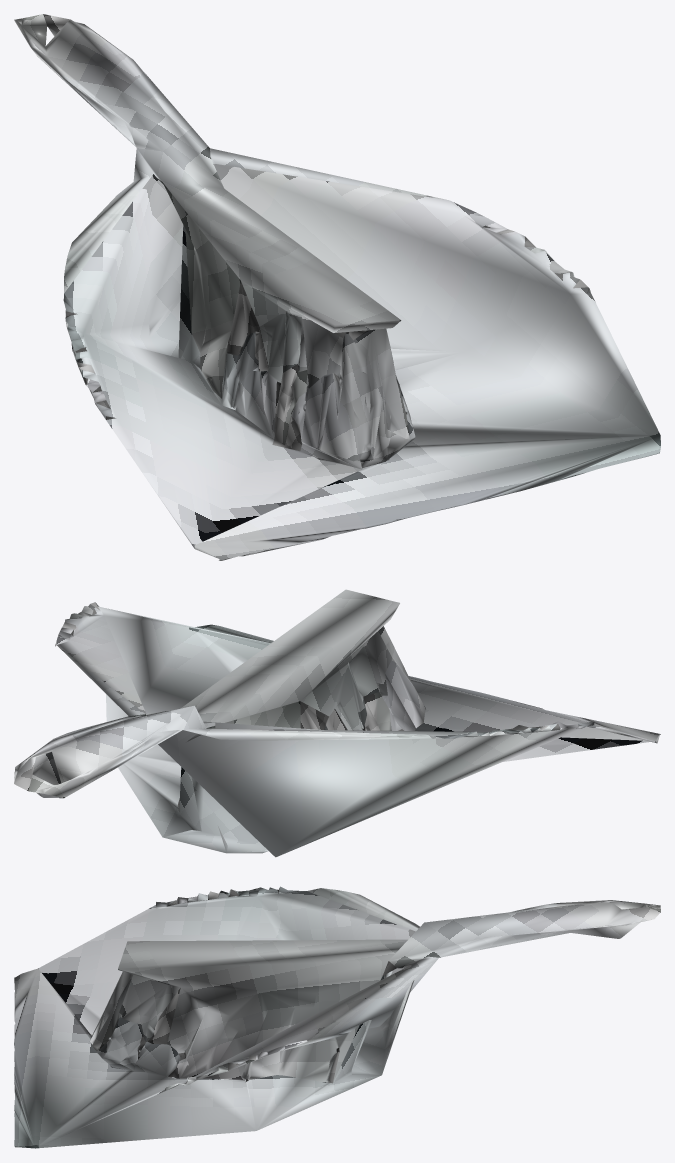
Rendered from Ocedar_Snap_On_Dust_Pan_And_Brush_1_ct-low.glb.
3 renders of one model, top to bottom at view 1: azimuth 30°, elevation 25°; view 2: azimuth 150°, elevation 25°; view 3: azimuth 270°, elevation 25°, orthographic. The views are drawn at different scales.
Parts seen in each view (by area): view 1: Ocedar_Snap_On_Dust_Pan_And_Brush_1_ct; view 2: Ocedar_Snap_On_Dust_Pan_And_Brush_1_ct; view 3: Ocedar_Snap_On_Dust_Pan_And_Brush_1_ct.
Part boxes in pixels (box(x1,y1,x2,y2)): Ocedar_Snap_On_Dust_Pan_And_Brush_1_ct: box(14, 14, 660, 560); Ocedar_Snap_On_Dust_Pan_And_Brush_1_ct: box(14, 589, 660, 857); Ocedar_Snap_On_Dust_Pan_And_Brush_1_ct: box(14, 886, 660, 1148).
Size of the model in its own units: 0.226 by 0.0922 by 0.3273.
Materials: 1 (1 with a texture image).
